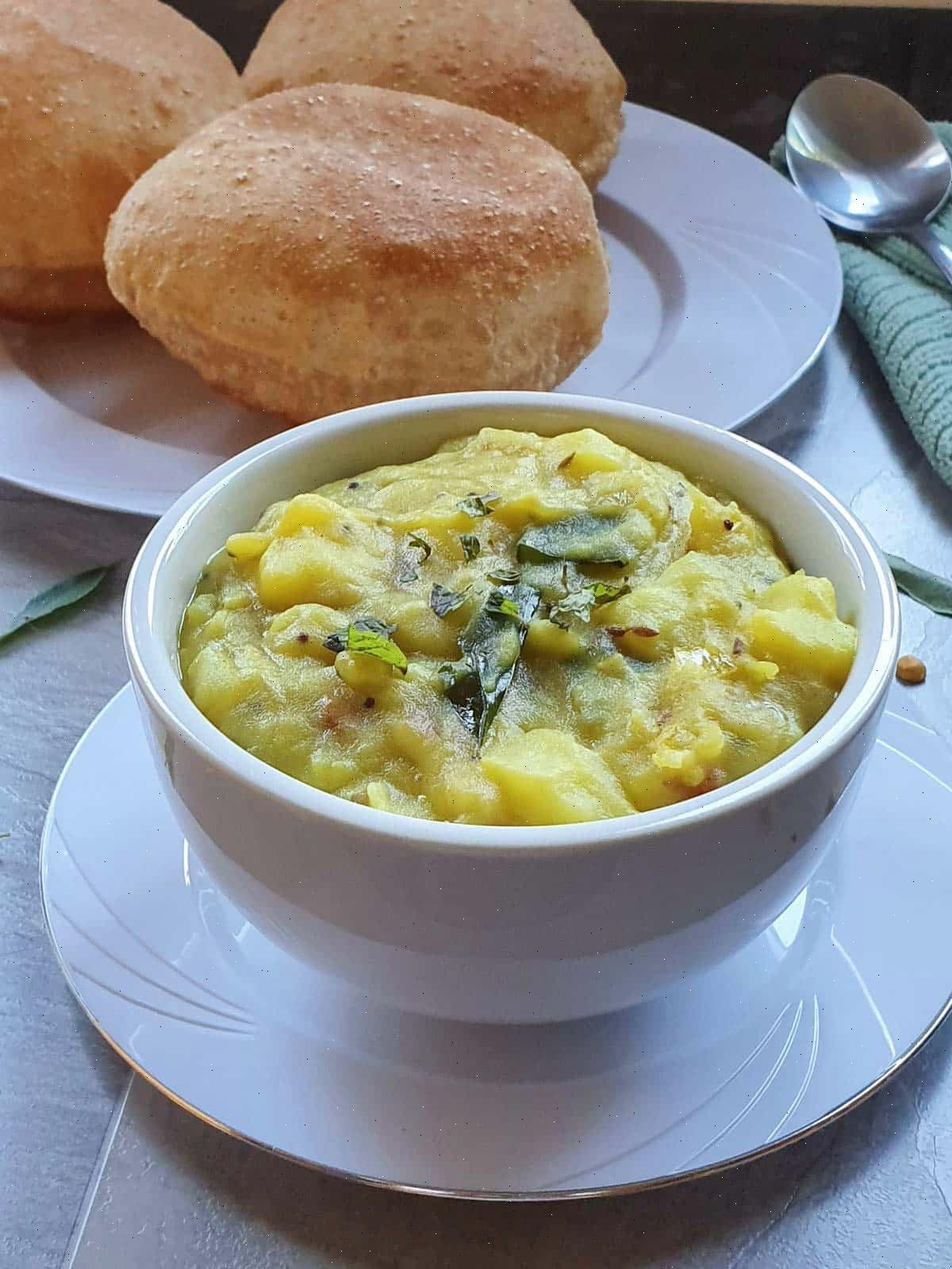puri: (8, 0, 777, 385)
